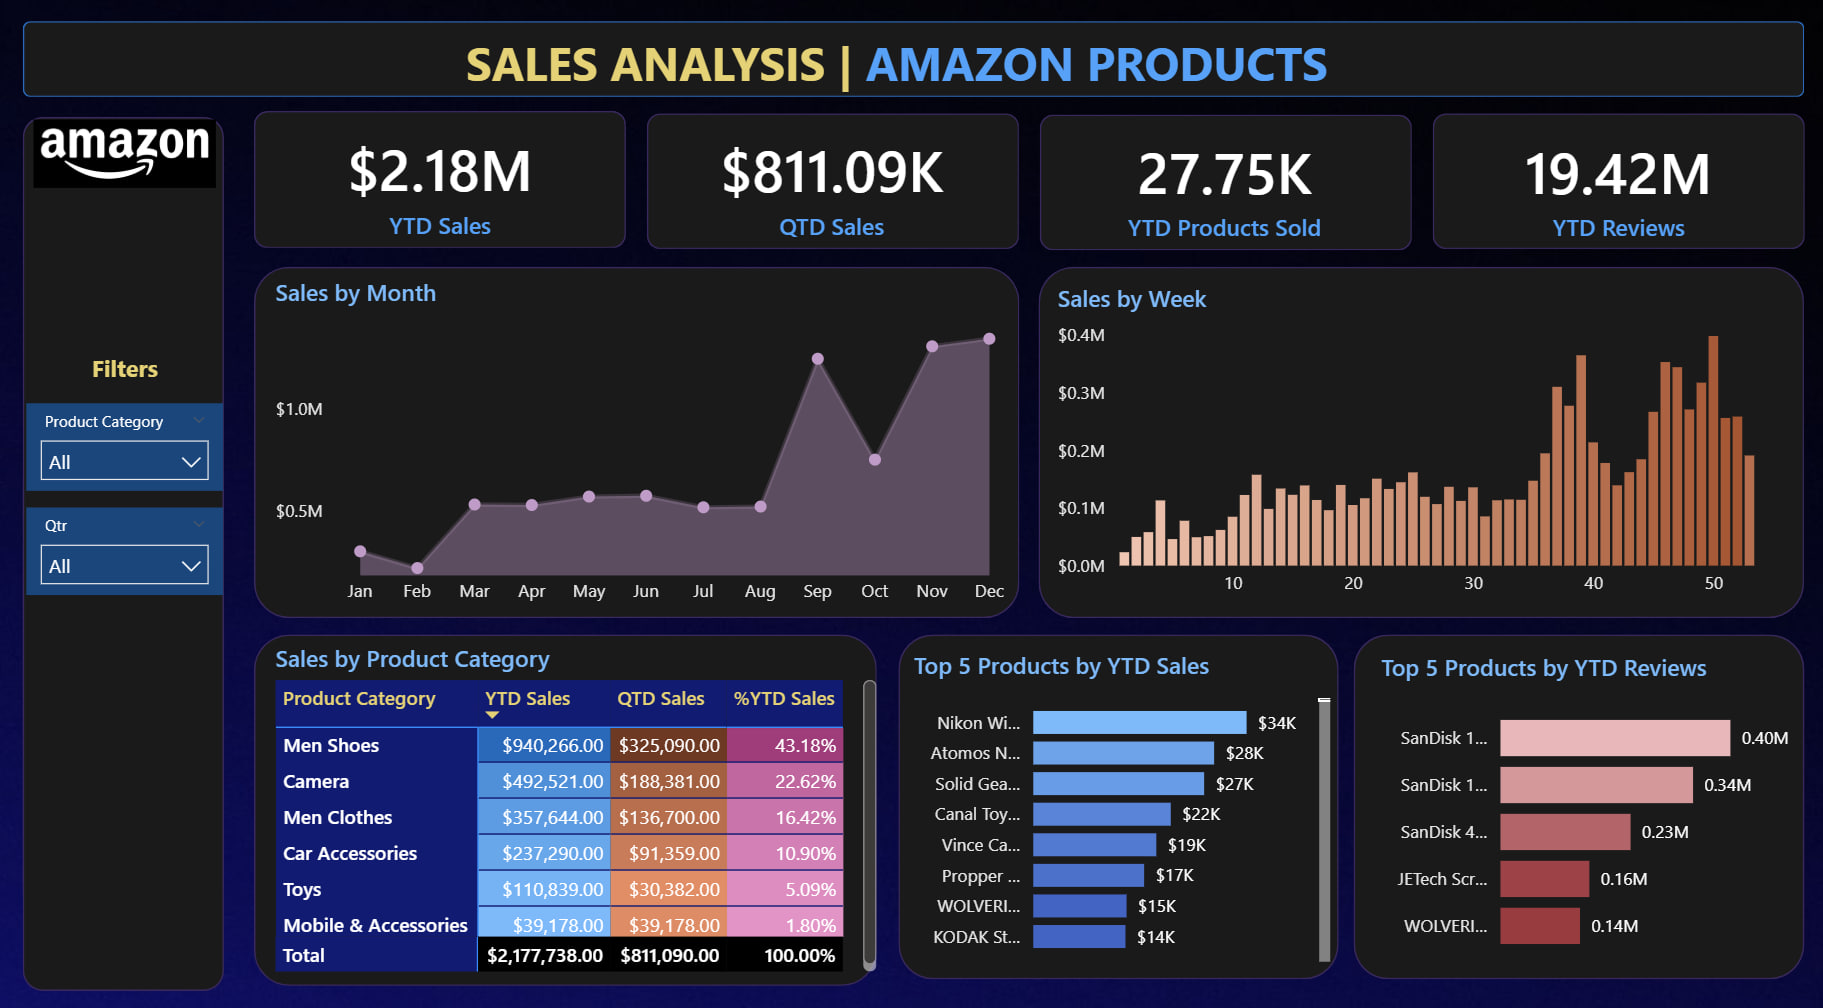

This screenshot's page, from the dashboard's own definition file:
{"tool":"powerbi","page":{"name":"Page 1","canvas":[1280,720],"ordinal":0},"visuals":[{"type":"card","fields":{"Values":["Amazon_Data.YTD Sales"]},"box":[180.9,86.4,259.1,96.4],"z":0,"group":"g1"},{"type":"shape","box":[20,88.2,140,608.2],"z":0},{"type":"card","fields":{"Values":["Amazon_Data.QTD Sales"]},"box":[453.6,87.3,259.1,96.4],"z":1000,"group":"g1"},{"type":"shape","box":[20,21.4,1240,52.9],"z":1000},{"type":"card","fields":{"Values":["Amazon_Data.YTD Products Sold"]},"box":[727.3,88.2,259.1,96.4],"z":2000,"group":"g1"},{"type":"textbox","box":[314,17,611,62.4],"z":2000},{"type":"card","fields":{"Values":["Amazon_Data.YTD Reviews"]},"box":[1000.9,88.2,259.1,96.4],"z":3000,"group":"g1"},{"type":"shape","box":[181.1,84.4,258.9,95.6],"z":3000},{"type":"shape","box":[1000.9,85.5,259.1,94.5],"z":4000},{"type":"shape","box":[727.6,86.4,259.1,94.5],"z":5000},{"type":"shape","box":[454.2,85.5,259.1,94.5],"z":6000},{"type":"group","id":"g1","title":"Group 1","box":[180.9,86.4,1079.1,98.2],"z":7000},{"type":"shape","box":[180.9,192.7,532.7,244.5],"z":8000},{"type":"areaChart","title":"Sales by Month","fields":{"Category":["Date Table.Month Name"],"Y":["Sum(Amazon_Data.Price(Dollar))"]},"box":[190.9,199.1,522.7,238.2],"z":9000},{"type":"shape","box":[727.3,192.7,532.7,244.5],"z":10000},{"type":"columnChart","title":"Sales by Week","fields":{"Category":["Date Table.Week"],"Y":["Sum(Amazon_Data.Price(Dollar))"]},"box":[735.5,203.6,515.5,228.2],"z":11000},{"type":"shape","box":[180.9,448.2,433.6,244.5],"z":12000},{"type":"pivotTable","title":"Sales by Product Category","fields":{"Rows":["Amazon_Data.Product Category"],"Values":["Amazon_Data.YTD Sales1","Amazon_Data.QTD Sales","Amazon_Data.YTD Sales"]},"box":[190.9,453.6,428.2,234.5],"z":13000},{"type":"shape","box":[629.1,448.2,306.4,240],"z":14000},{"type":"shape","box":[946.4,448.2,313.6,240],"z":15000},{"type":"clusteredBarChart","title":"Top 5 Products by YTD Sales","fields":{"Category":["Amazon_Data.Product Description"],"Y":["Amazon_Data.YTD Sales"]},"box":[635.5,458.2,300,222.7],"z":16000},{"type":"clusteredBarChart","title":"Top 5 Products by YTD Reviews","fields":{"Category":["Amazon_Data.Product Description"],"Y":["Amazon_Data.YTD Reviews"]},"box":[960,460,300,222.7],"z":17000},{"type":"image","box":[22.7,24.5,137.3,179.1],"z":18000},{"type":"slicer","fields":{"Values":["Amazon_Data.Product Category"]},"box":[22.7,287.3,137.3,60.9],"z":19000},{"type":"slicer","fields":{"Values":["Date Table.Qtr"]},"box":[22.7,360,137.3,60.9],"z":20000},{"type":"textbox","box":[22.7,246.4,137.3,40.9],"z":21000}]}

Visuals, with their boxes in screenshot pixels (x1, y1, x2, y2), scaled from the page's 1280x720 canvas onto the 1823x1008 screenshot:
card - Amazon_Data.YTD Sales: bbox=(258, 121, 627, 256)
shape: bbox=(28, 123, 228, 975)
card - Amazon_Data.QTD Sales: bbox=(646, 122, 1015, 257)
shape: bbox=(28, 30, 1795, 104)
card - Amazon_Data.YTD Products Sold: bbox=(1036, 123, 1405, 258)
textbox: bbox=(447, 24, 1317, 111)
card - Amazon_Data.YTD Reviews: bbox=(1426, 123, 1795, 258)
shape: bbox=(258, 118, 627, 252)
shape: bbox=(1426, 120, 1795, 252)
shape: bbox=(1036, 121, 1405, 253)
shape: bbox=(647, 120, 1016, 252)
"Group 1" group: bbox=(258, 121, 1795, 258)
shape: bbox=(258, 270, 1016, 612)
"Sales by Month" areaChart: bbox=(272, 279, 1016, 612)
shape: bbox=(1036, 270, 1795, 612)
"Sales by Week" columnChart: bbox=(1048, 285, 1782, 605)
shape: bbox=(258, 627, 875, 970)
"Sales by Product Category" pivotTable: bbox=(272, 635, 882, 963)
shape: bbox=(896, 627, 1332, 963)
shape: bbox=(1348, 627, 1795, 963)
"Top 5 Products by YTD Sales" clusteredBarChart: bbox=(905, 641, 1332, 953)
"Top 5 Products by YTD Reviews" clusteredBarChart: bbox=(1367, 644, 1795, 956)
image: bbox=(32, 34, 228, 285)
slicer - Amazon_Data.Product Category: bbox=(32, 402, 228, 487)
slicer - Date Table.Qtr: bbox=(32, 504, 228, 589)
textbox: bbox=(32, 345, 228, 402)
